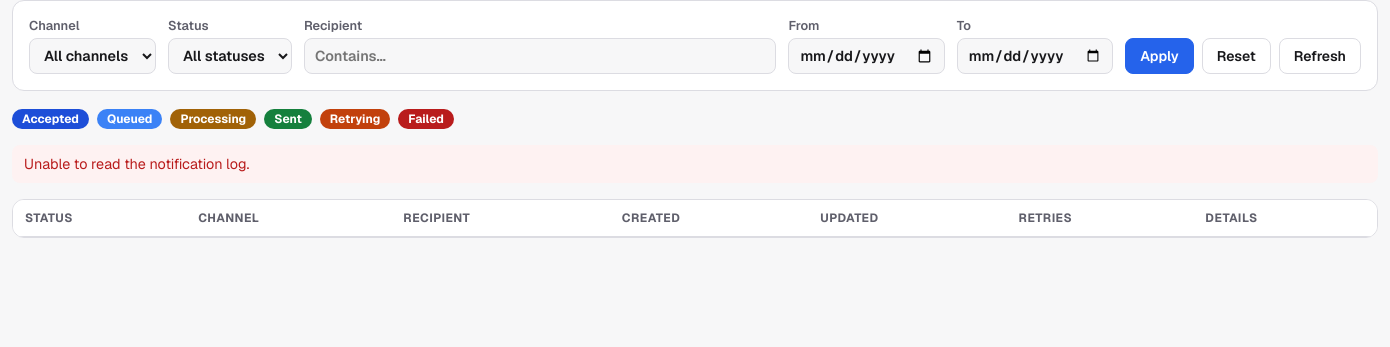
NotificationLog › shows server errors, truncation warnings and supports refresh
The width and height of the screenshot is (1390, 347).
Expected: the message reads "Unable to read the notification log.", [24,155,249,173]
Click the button "Refresh": [1320, 56] box [1279,38,1361,74]
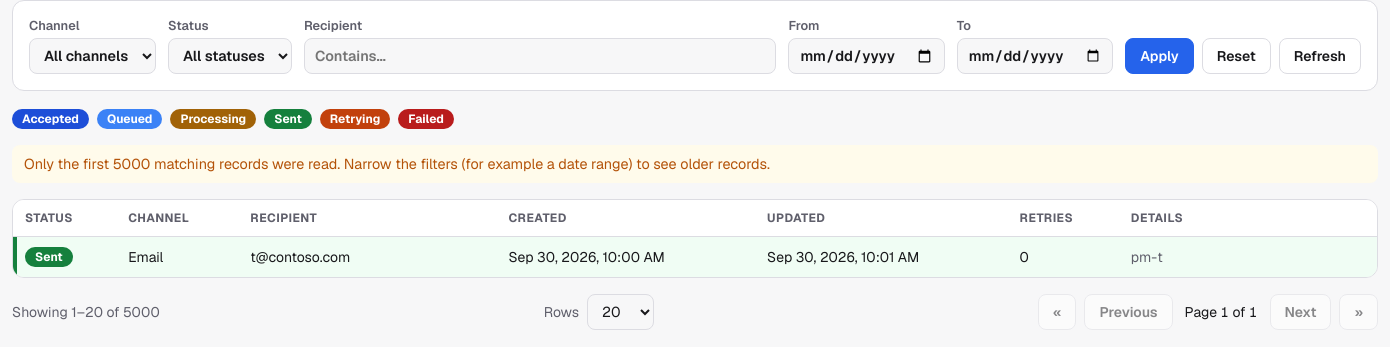
Expected: the text "Only the first 5000 matching records were read" is shown, [12,145,1378,183]
